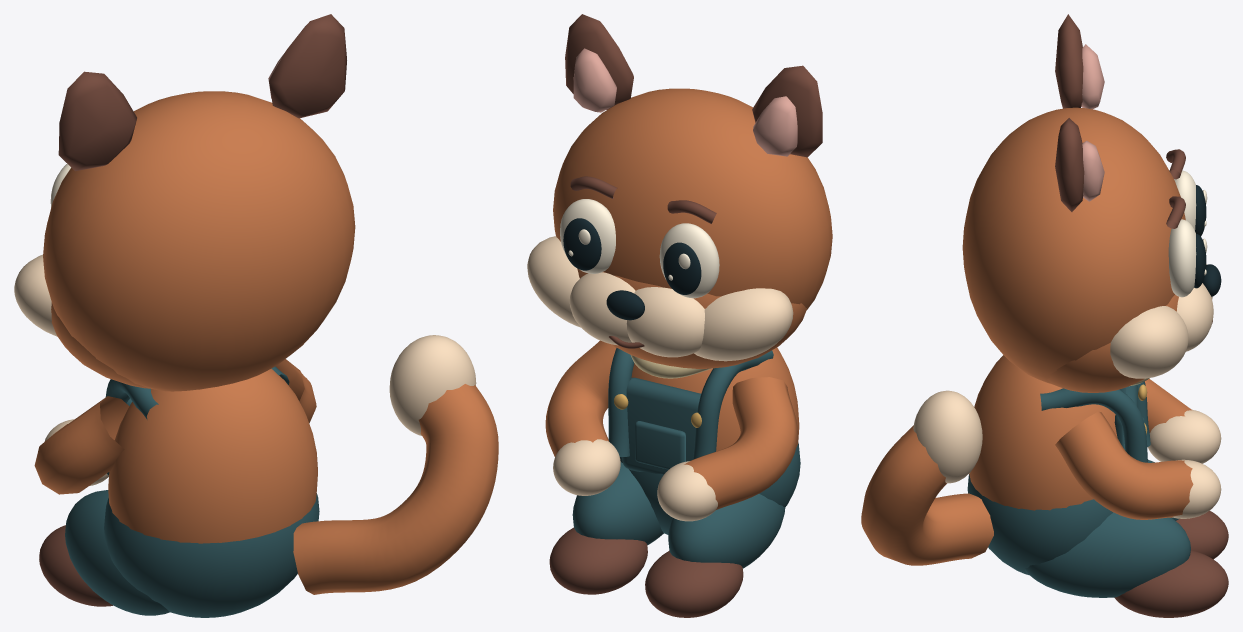
The model's file is renard.glb.
The picture shows the model from 3 angles, left to right: view 1: azimuth 30°, elevation 25°; view 2: azimuth 150°, elevation 25°; view 3: azimuth 270°, elevation 25°; orthographic projection. The views are drawn at different scales.
Parts seen in each view (by area): view 1: Crâne, Buste, Salopette, Oreille, Patte, Chaussure, Favoris; view 2: Crâne, Salopette, Buste, Favoris, Chaussure, Oreille, Patte, Intérieur, Blanc, Blanc.001, Iris, Iris.001 (+2 smaller); view 3: Crâne, Buste, Salopette, Patte, Chaussure, Favoris, Oreille, Intérieur, Blanc.001, Blanc.
Part boxes in pixels (box(x1,y1,x2,y2)): Crâne: box(43, 91, 355, 391); Buste: box(34, 359, 498, 594); Salopette: box(65, 366, 319, 617); Oreille: box(58, 14, 346, 171); Patte: box(44, 335, 476, 485); Chaussure: box(39, 525, 112, 606); Favoris: box(14, 254, 57, 336); Crâne: box(553, 88, 832, 368); Salopette: box(572, 348, 800, 568); Buste: box(545, 340, 799, 509); Favoris: box(527, 236, 793, 361); Chaussure: box(549, 527, 743, 617); Oreille: box(565, 14, 822, 348); Patte: box(553, 439, 717, 521); Intérieur: box(573, 48, 797, 156); Blanc: box(659, 223, 719, 298); Blanc.001: box(560, 199, 615, 273); Iris: box(663, 242, 701, 294); Iris.001: box(563, 218, 601, 270); Crâne: box(962, 107, 1185, 392); Buste: box(861, 355, 1193, 565); Salopette: box(967, 381, 1190, 597); Patte: box(913, 390, 1221, 518); Chaussure: box(1114, 510, 1228, 617); Favoris: box(1110, 264, 1213, 378); Oreille: box(1055, 14, 1212, 323); Intérieur: box(1081, 44, 1104, 201); Blanc.001: box(1168, 219, 1207, 297); Blanc: box(1174, 170, 1207, 230).
Size of the model in its own units: 1.43 by 2.3 by 1.46.
